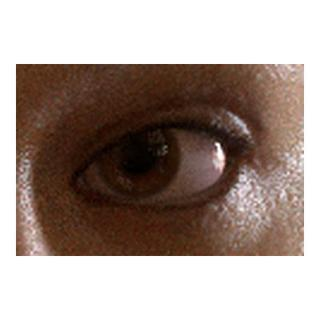pupil: (121, 140, 154, 173)
